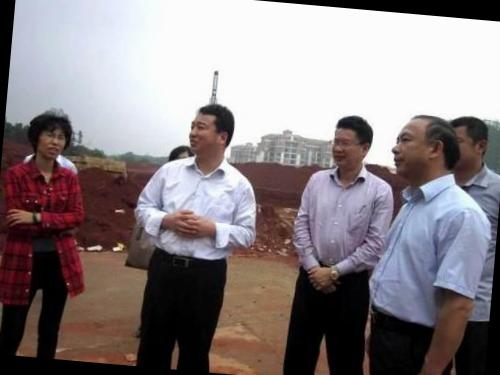no_helmet: (390, 110, 462, 184), (184, 98, 240, 162), (326, 110, 379, 173), (445, 110, 494, 174), (25, 104, 76, 165)
